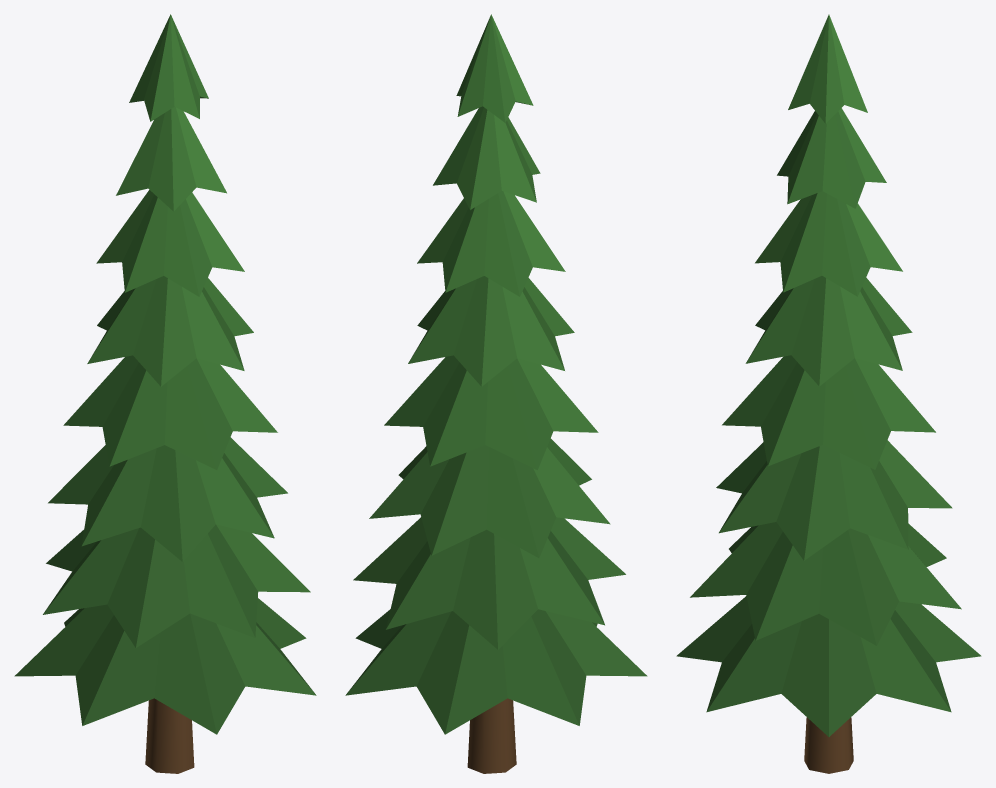
The model's file is Pine2.glb.
The picture shows the model from 3 angles, left to right: view 1: azimuth 30°, elevation 25°; view 2: azimuth 150°, elevation 25°; view 3: azimuth 270°, elevation 25°; orthographic projection.
Parts seen in each view (by area): view 1: Pine2; view 2: Pine2; view 3: Pine2.
Boxes of the visible parts, bbox=[...] form: Pine2: bbox=[14, 14, 316, 773]; Pine2: bbox=[345, 14, 647, 773]; Pine2: bbox=[676, 14, 981, 773].
Bounding box in the file's own units: 3.52 × 9.75 × 3.61.
